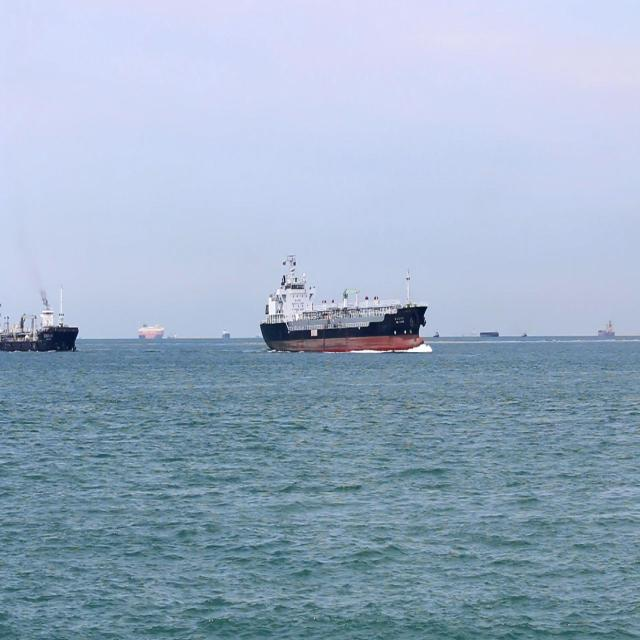ship: (258, 256, 430, 354), (0, 280, 81, 352), (136, 321, 165, 340), (598, 316, 618, 341)
